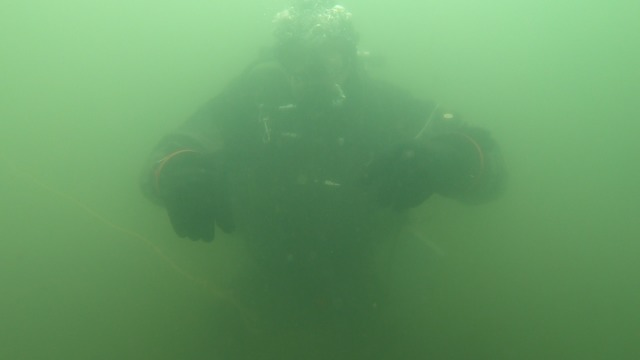Diver: (131, 3, 505, 248)
Hand: (353, 130, 485, 214), (149, 149, 237, 242)
Head: (270, 3, 357, 118)
